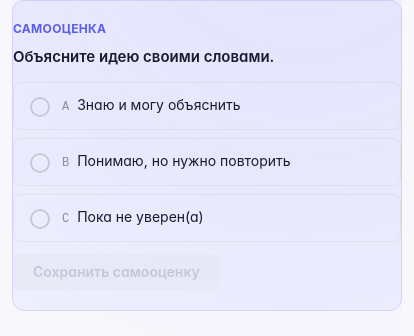
Test: CheckpointScene assessment semantics › сохраняет уровень уверенности без correct/incorrect feedback
What coordinates should you click on to do the following:
click the radio button labelled "Понимаю, но нужно повторить"
I would click on:
 (207, 162)
Its box is [13,138,401,186].
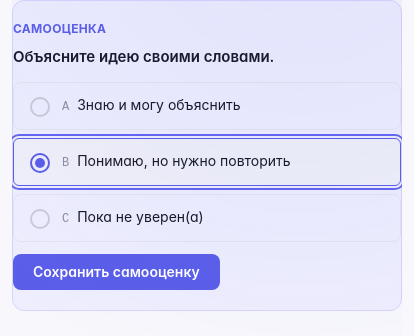
What coordinates should you click on to do the following:
click the button "Сохранить самооценку"
I would click on:
 (116, 272)
Its box is [13,254,220,290].
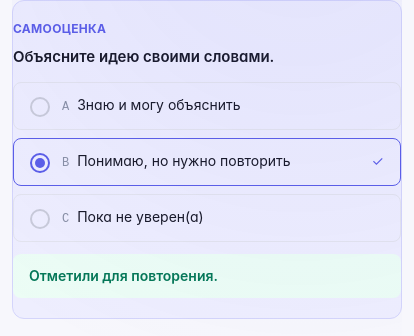
Check: the text "Отметили для повторения." is shown, box [29,267,218,284]
